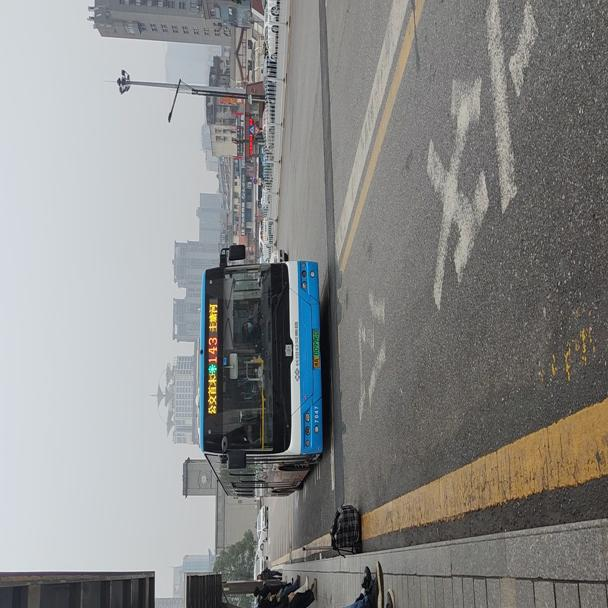bus: (194, 260, 319, 493)
screen: (205, 333, 218, 362)
